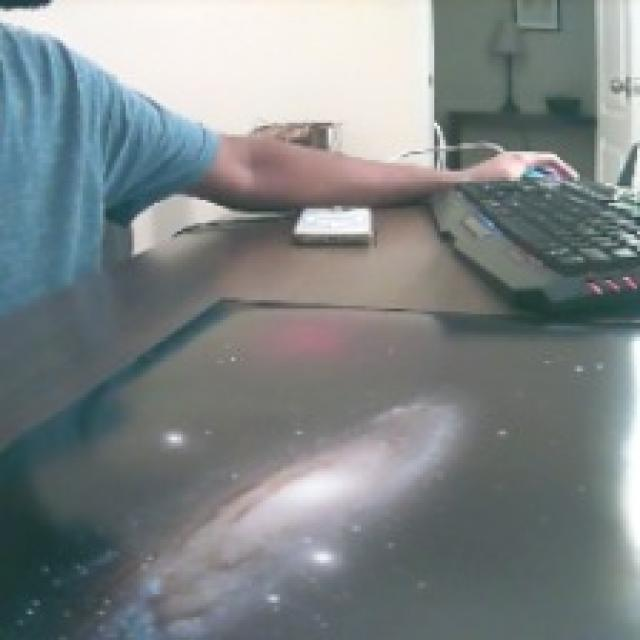Galaxy: (77, 388, 465, 640)
